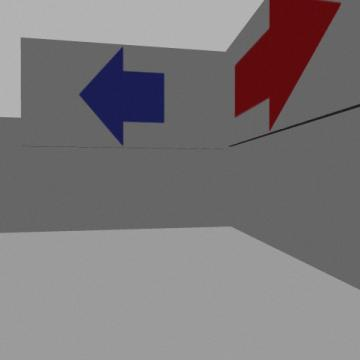blue_left: (80, 47, 164, 144)
red_right: (235, 0, 340, 129)
